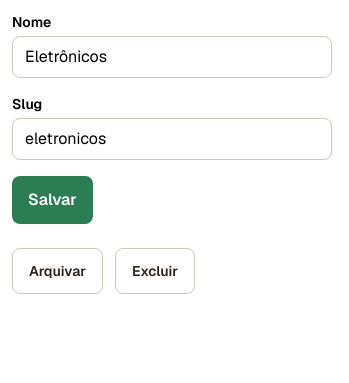
Test: CategoryDetail › excluir: conflito (409, vinculada a Artigo) mostra a mensagem da API, permanece na página
Click the button "Excluir": x=155, y=271 [115, 248, 195, 294]
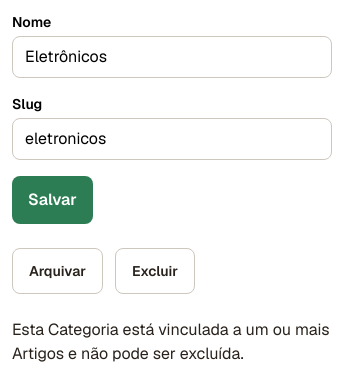
Expected: the text "Esta Categoria está vinculada a um ou mais Artigos e não pode ser excluída." is shown, [12, 318, 332, 366]
